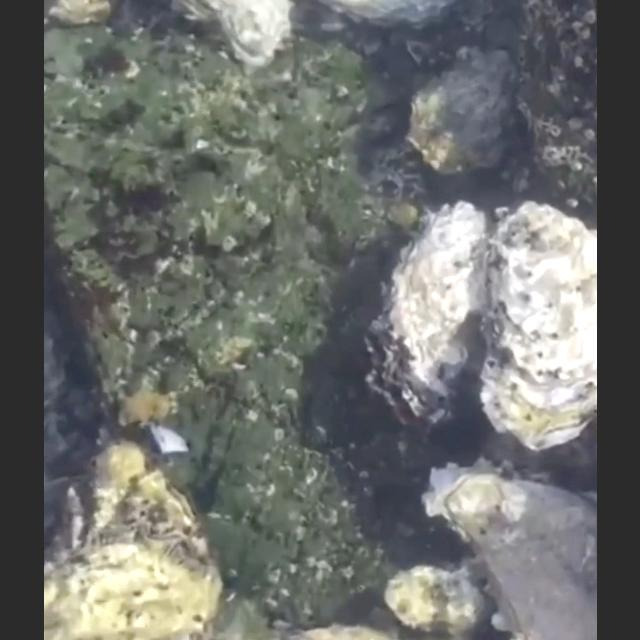Oyster-Closed: (44, 441, 226, 640), (419, 458, 596, 640), (478, 202, 596, 456), (405, 54, 517, 180), (162, 0, 294, 80), (381, 566, 487, 640)
Oyster-Open: (362, 201, 492, 435)
